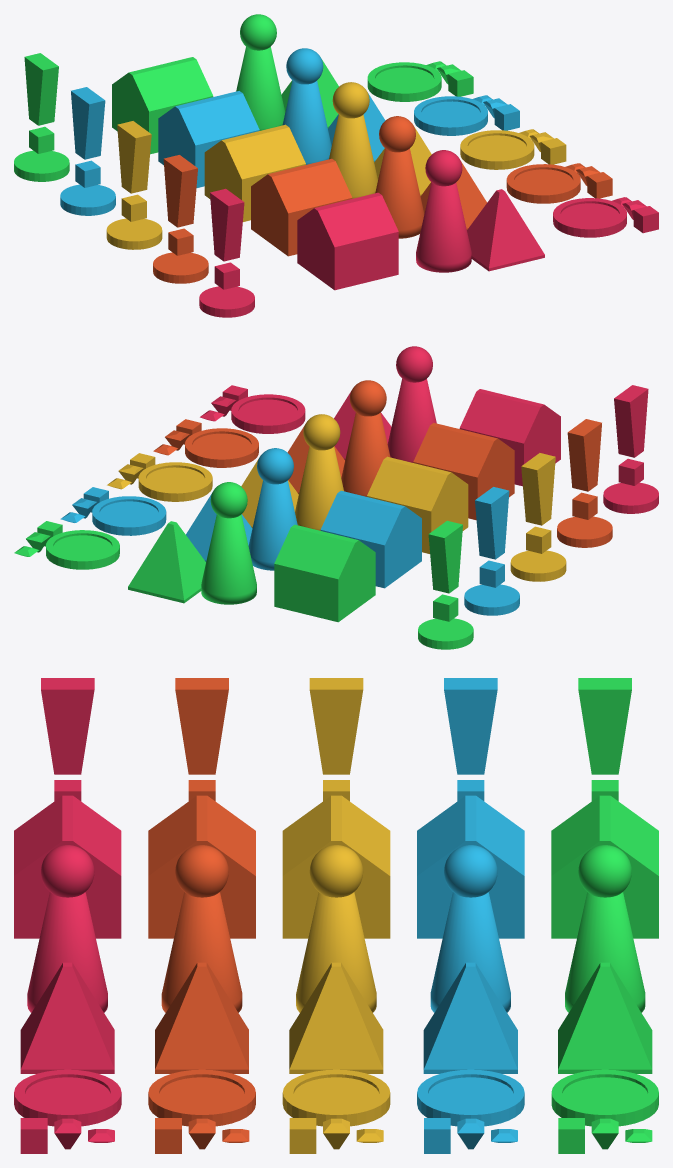
Rendered from Tabletop.fbx.
The picture shows the model from 3 angles, top to bottom: view 1: azimuth 30°, elevation 25°; view 2: azimuth 150°, elevation 25°; view 3: azimuth 270°, elevation 25°; orthographic projection. The views are drawn at different scales.
Visible parts, largest first — view 1: Cube.005, Cube.006, Cube.007, Cube.008, Cube.009, Cylinder.001, Cylinder.012, Cylinder.010, Cylinder.011, Cylinder.014, Cylinder.013, Cylinder.003 (+18 smaller); view 2: Cube.009, Cube.008, Cube.007, Cube.005, Cube.006, Cylinder.004, Cylinder.012, Cylinder.014, Cylinder.013, Cylinder.010, Cylinder.011, Cylinder.002 (+13 smaller); view 3: Cube.007, Cube.008, Cube.009, Cube.006, Cube.005, Cylinder.003, Cylinder.001, Cylinder.002, Cylinder, Cylinder.004, Cube, Cube.002 (+18 smaller).
Part boxes in pixels (left/top/right/bottom): Cube.005: left=297, top=192, right=398, bottom=290; Cube.006: left=251, top=158, right=352, bottom=256; Cube.007: left=204, top=124, right=305, bottom=221; Cube.008: left=158, top=91, right=259, bottom=188; Cube.009: left=112, top=57, right=213, bottom=154; Cylinder.001: left=416, top=150, right=471, bottom=272; Cylinder.012: left=106, top=121, right=162, bottom=249; Cylinder.010: left=199, top=188, right=254, bottom=317; Cylinder.011: left=153, top=155, right=208, bottom=283; Cylinder.014: left=14, top=53, right=69, bottom=181; Cylinder.013: left=60, top=87, right=115, bottom=215; Cylinder.003: left=375, top=116, right=424, bottom=238; Cube.009: left=274, top=524, right=375, bottom=622; Cube.008: left=320, top=490, right=421, bottom=588; Cube.007: left=367, top=456, right=468, bottom=553; Cube.005: left=459, top=389, right=560, bottom=486; Cube.006: left=413, top=423, right=514, bottom=520; Cylinder.004: left=201, top=482, right=256, bottom=604; Cylinder.012: left=510, top=453, right=566, bottom=581; Cylinder.014: left=418, top=520, right=473, bottom=649; Cylinder.013: left=464, top=487, right=519, bottom=615; Cylinder.010: left=603, top=385, right=658, bottom=513; Cylinder.011: left=557, top=419, right=612, bottom=547; Cylinder.002: left=248, top=448, right=297, bottom=570; Cube.007: left=282, top=795, right=390, bottom=938; Cube.008: left=417, top=795, right=524, bottom=938; Cube.009: left=551, top=795, right=658, bottom=938; Cube.006: left=148, top=795, right=255, bottom=938; Cube.005: left=14, top=795, right=121, bottom=938; Cylinder.003: left=161, top=845, right=242, bottom=1012; Cylinder.001: left=27, top=845, right=107, bottom=1012; Cylinder.002: left=430, top=845, right=510, bottom=1012; Cylinder: left=296, top=845, right=376, bottom=1012; Cylinder.004: left=565, top=845, right=645, bottom=1012; Cube: left=20, top=962, right=114, bottom=1073; Cube.002: left=289, top=962, right=383, bottom=1073.
Bounding box in the file's own units: 1095 × 290 × 960.
